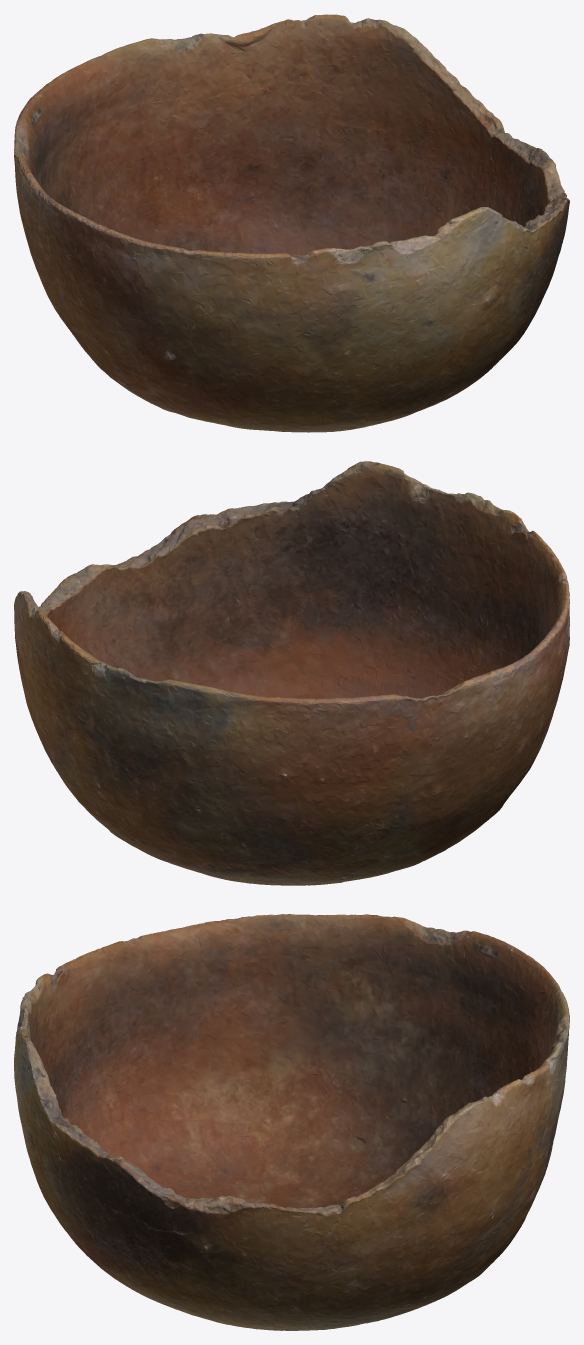
Rendered from Objeto_01-b.glb.
3 views of the same model, one above another, from view 1: azimuth 30°, elevation 25°; view 2: azimuth 150°, elevation 25°; view 3: azimuth 270°, elevation 25° (orthographic). The views are drawn at different scales.
Parts seen in each view (by area): view 1: Mesh_0; view 2: Mesh_0; view 3: Mesh_0.
Part boxes in pixels (x1,y1,x2,y2): Mesh_0: [14, 14, 569, 432]; Mesh_0: [14, 461, 569, 885]; Mesh_0: [14, 914, 569, 1330].
Bounding box in the file's own units: 0.4859 × 0.2599 × 0.4777.
1 material, 1 textured.
